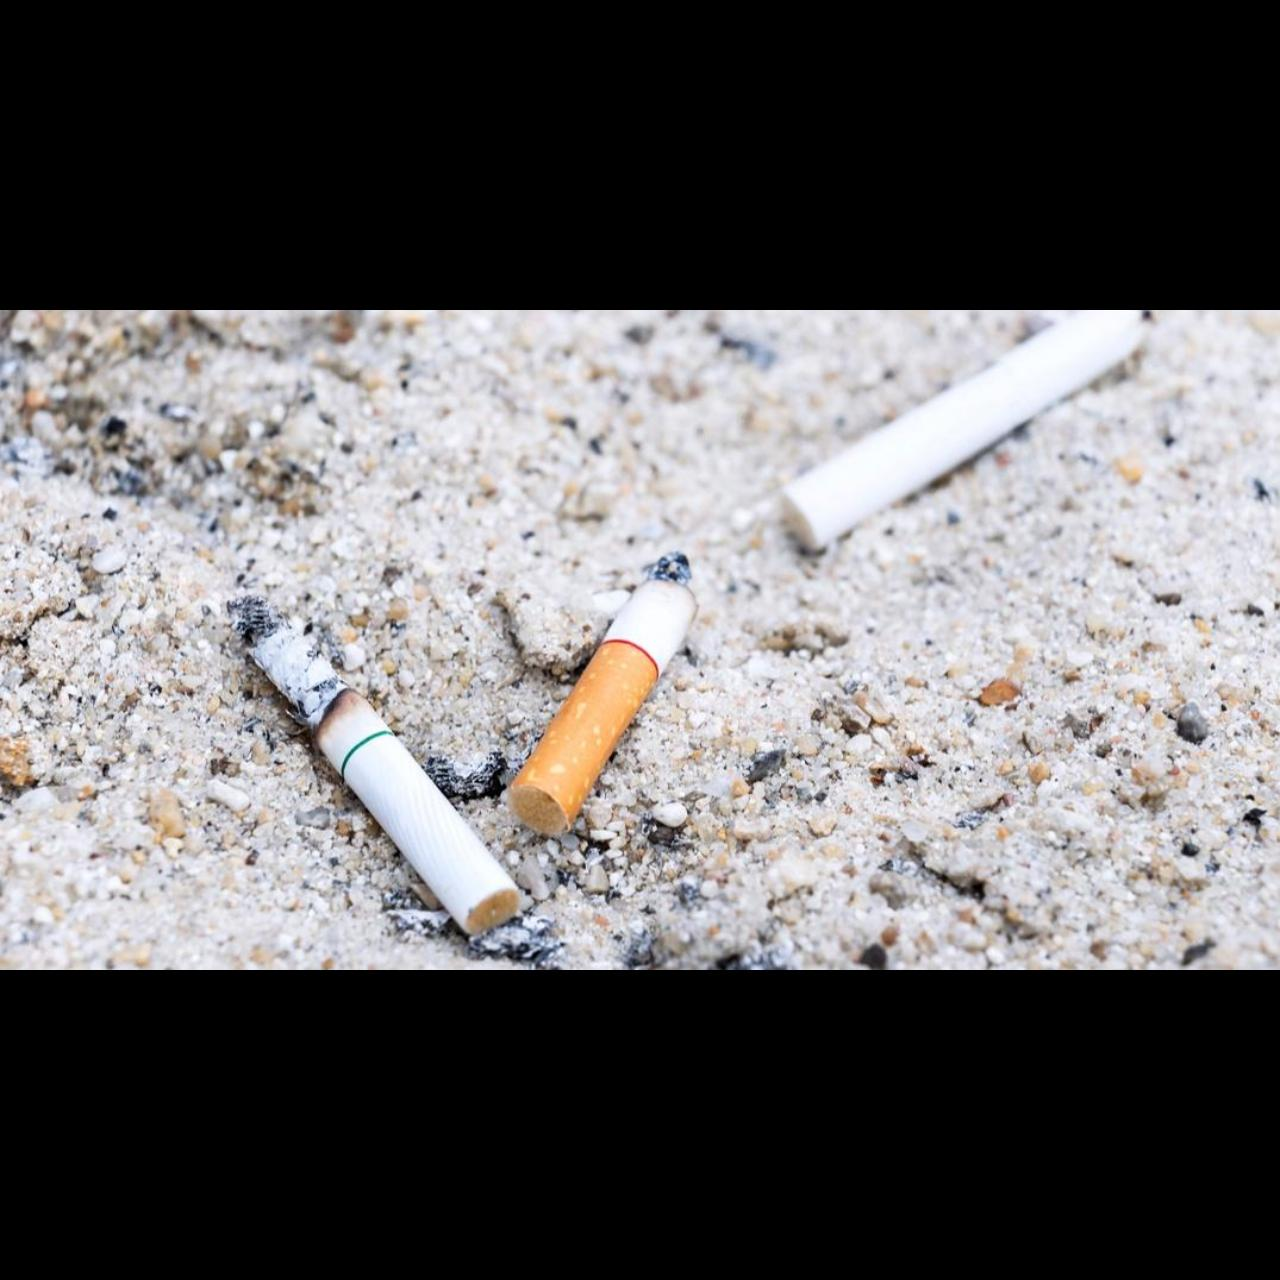cigarettes_butts: (225, 597, 523, 937), (781, 310, 1154, 552), (508, 553, 698, 837)
